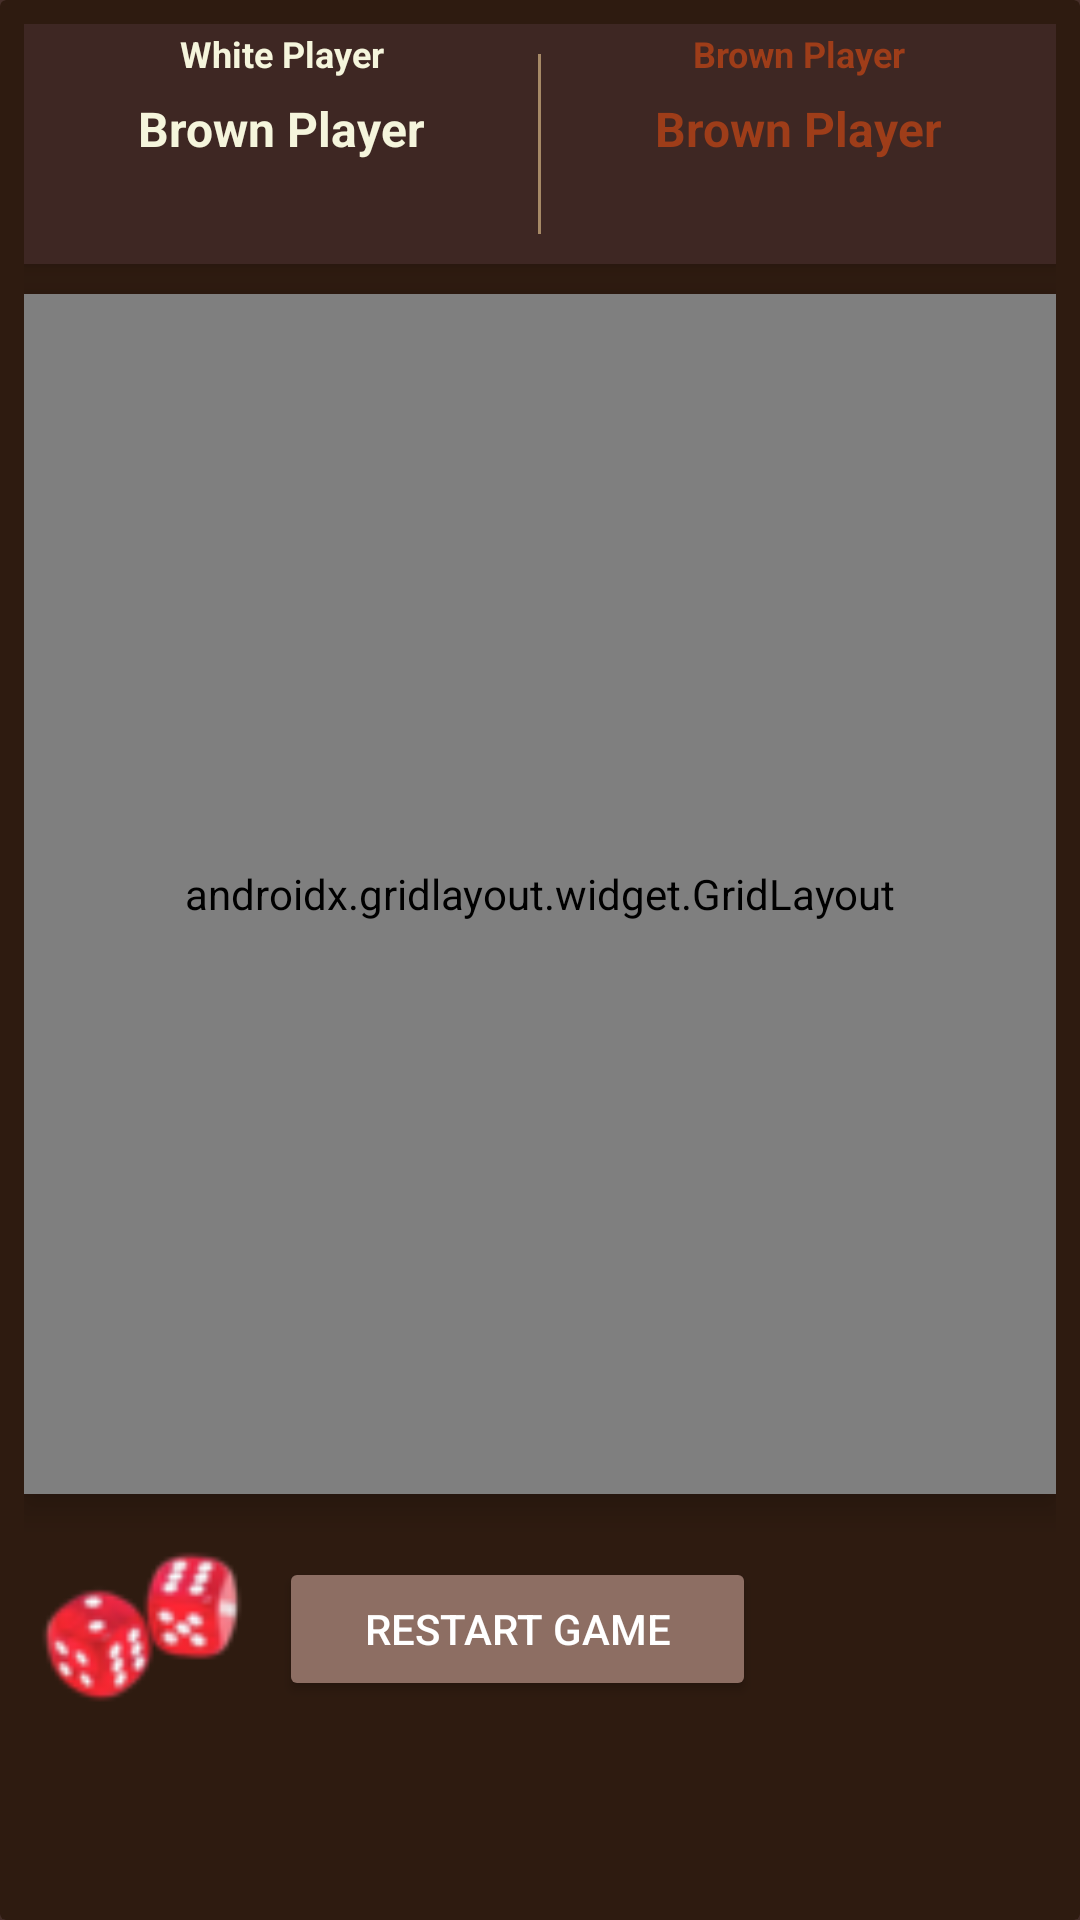

Screen size 1080 × 1920. Icon name, then its center in pixels as [x,y]:
cubes: [141,1626]
